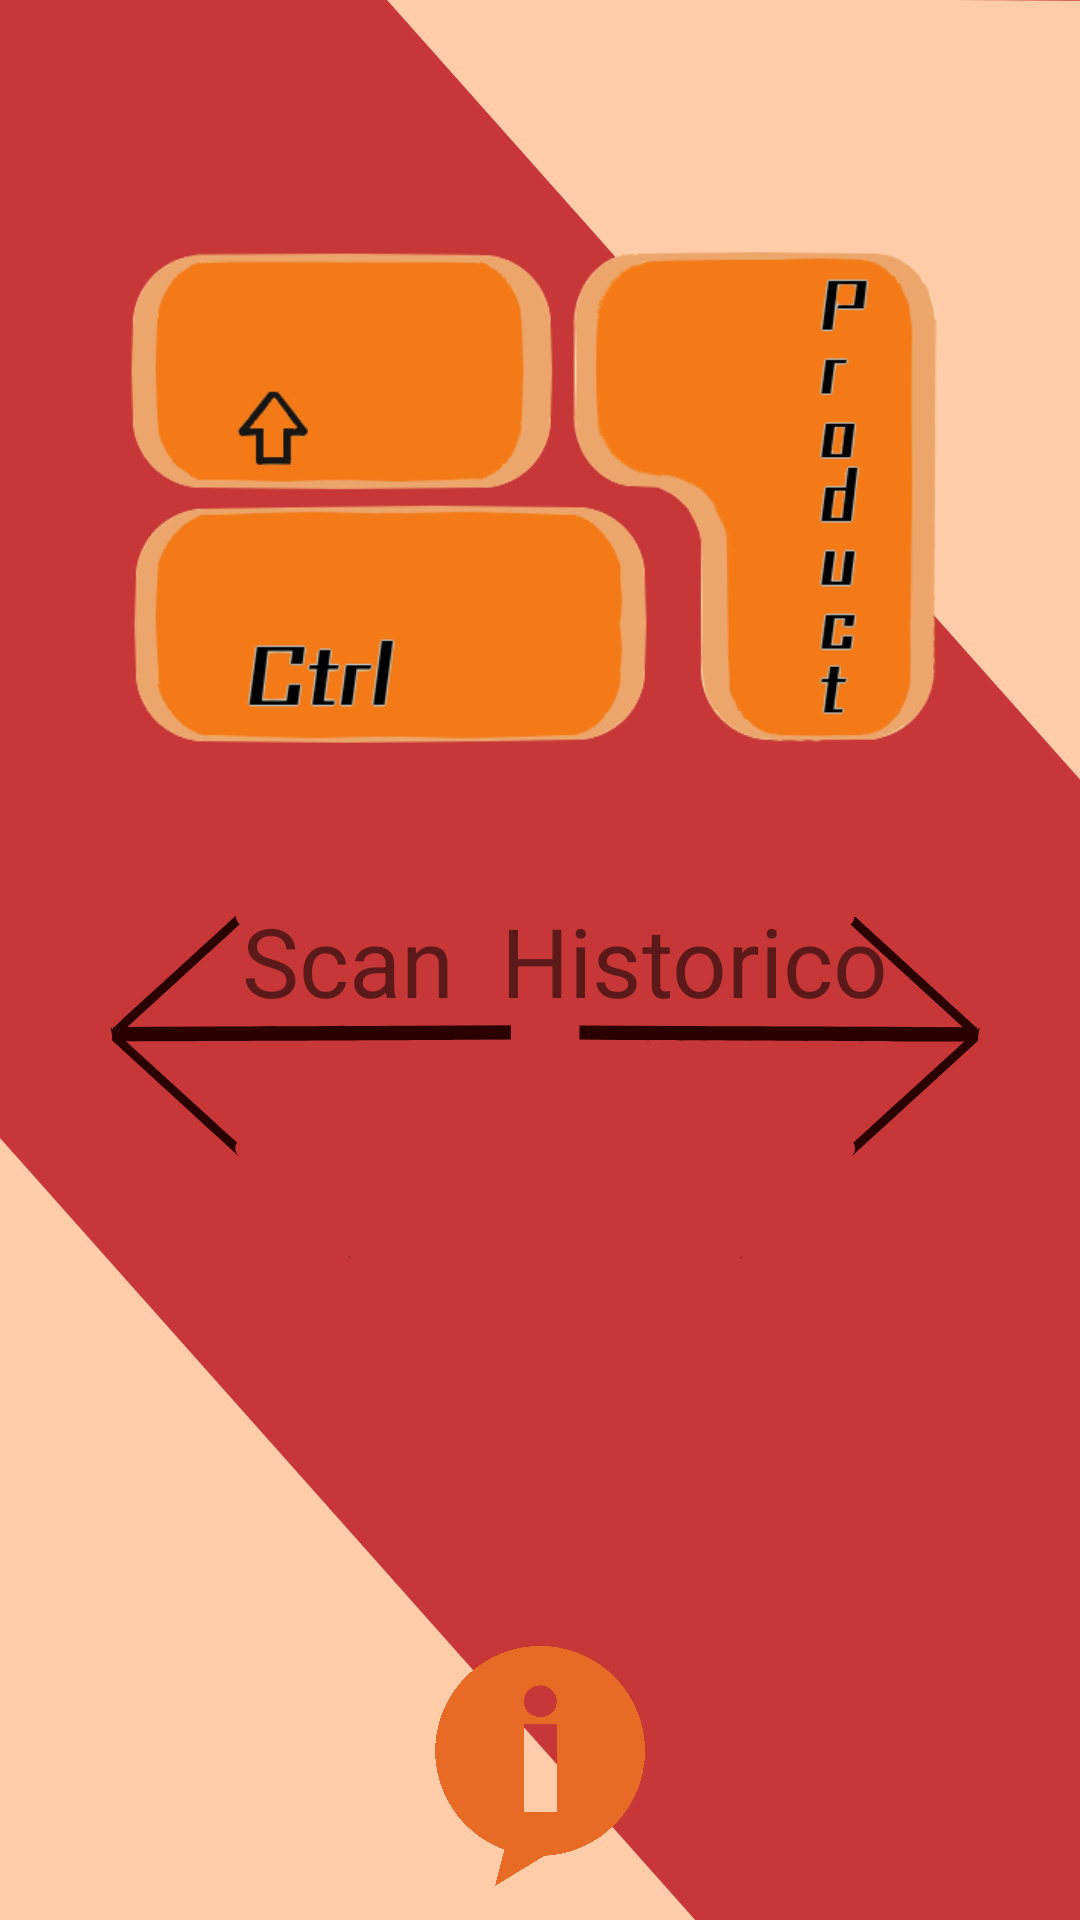

Point at icon controls on the screen. Image size 1080 x 1920, points as (x=x, y=y).
informacao: (x=540, y=1766)
